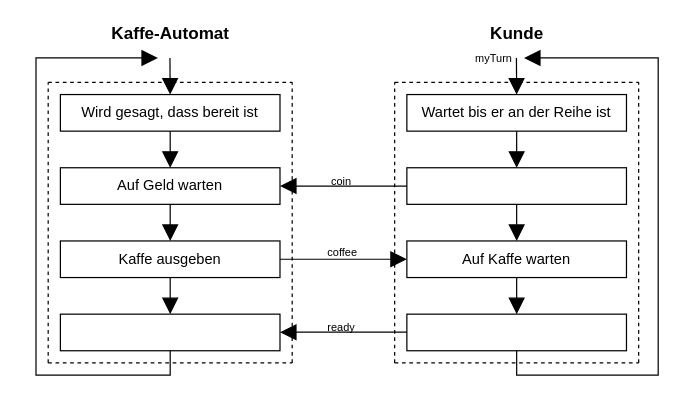
This 695x412 diagram has some shape labels left out. The shapes that lost their labels are listed below. From the top down, each one's centre as x and y in pixels, then its label:
point (516, 185): Geld einwerfen
point (169, 332): Auf Freigabe warten
point (516, 332): Gibt Kaffe-Automat frei
